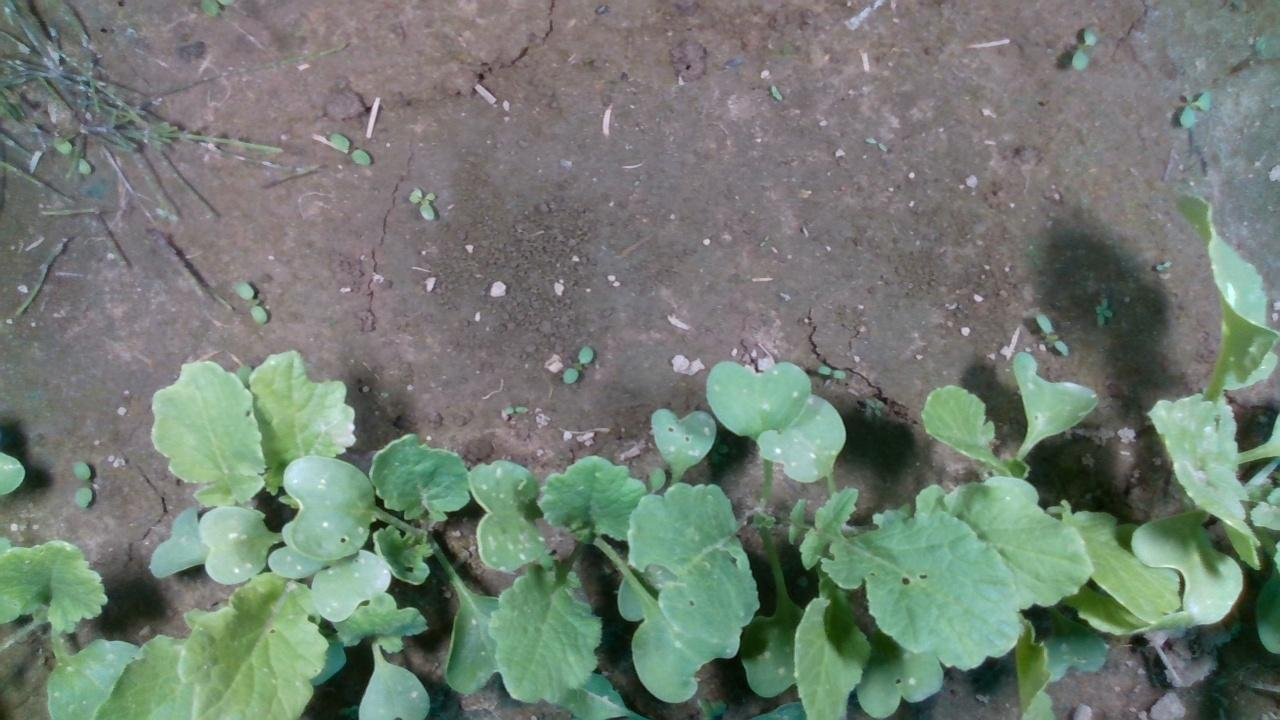weed: (1032, 312, 1068, 356), (327, 130, 370, 166), (232, 280, 267, 324), (1068, 23, 1098, 71), (1178, 89, 1212, 129), (561, 344, 593, 383), (405, 185, 436, 221), (70, 458, 92, 508), (1092, 295, 1114, 327)
